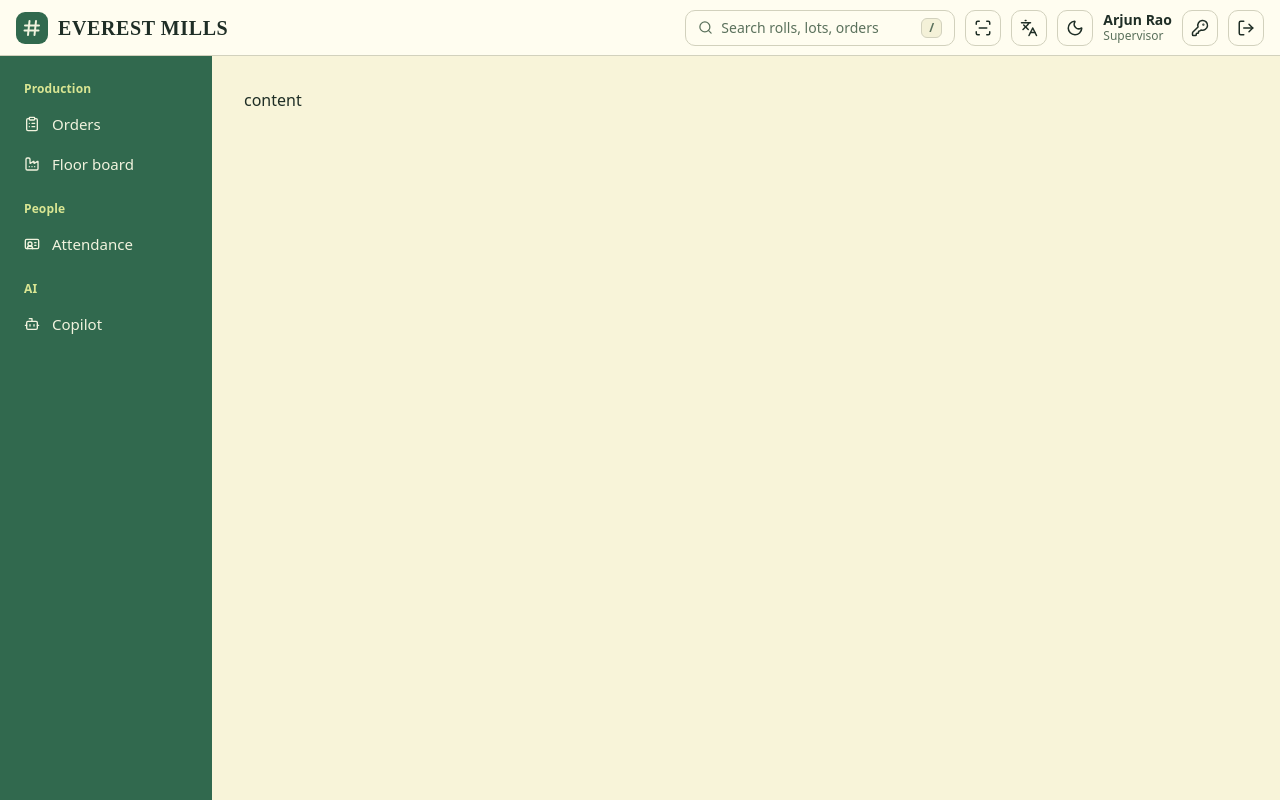
Test: AppShell › opens the search from the header
Click the button "Search rolls, lots, orders /" at (820, 28), box [685,10,955,46]
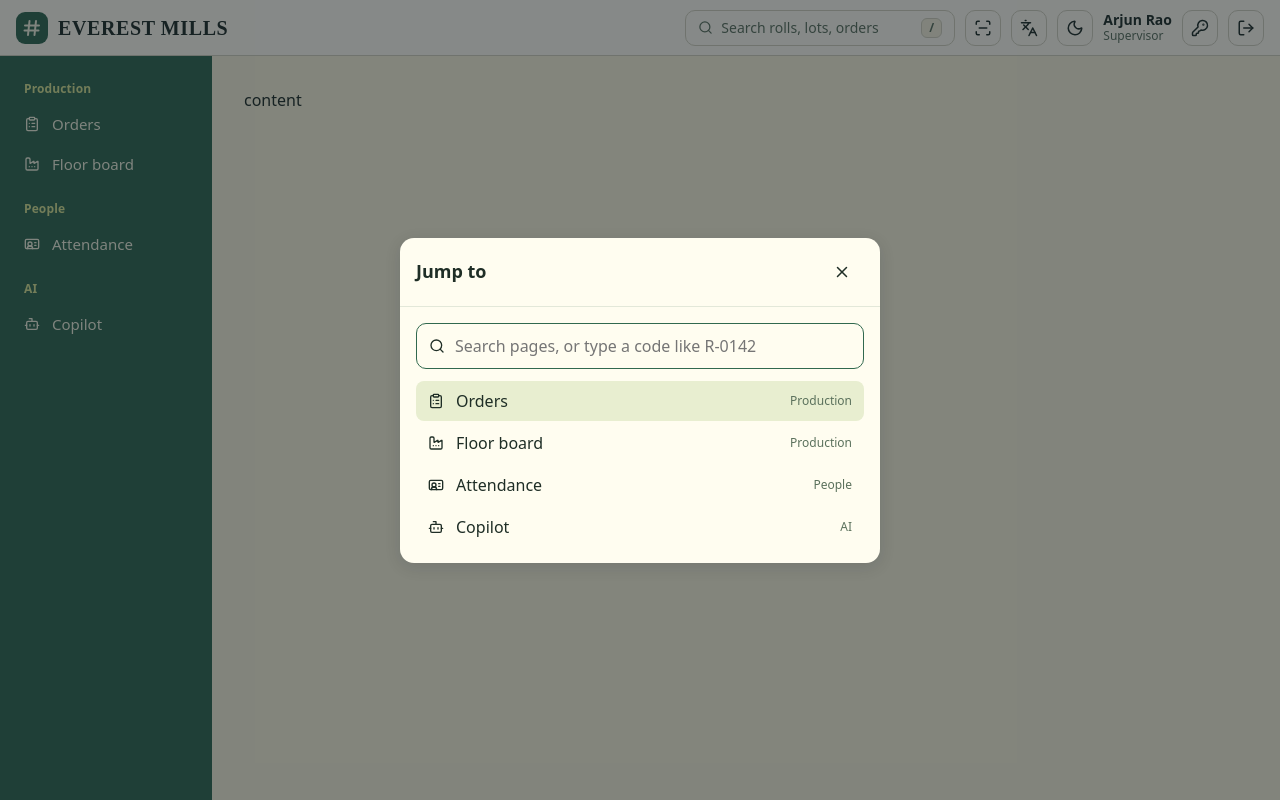
expect the dropdown is shown: met, box [453,324,851,368]
